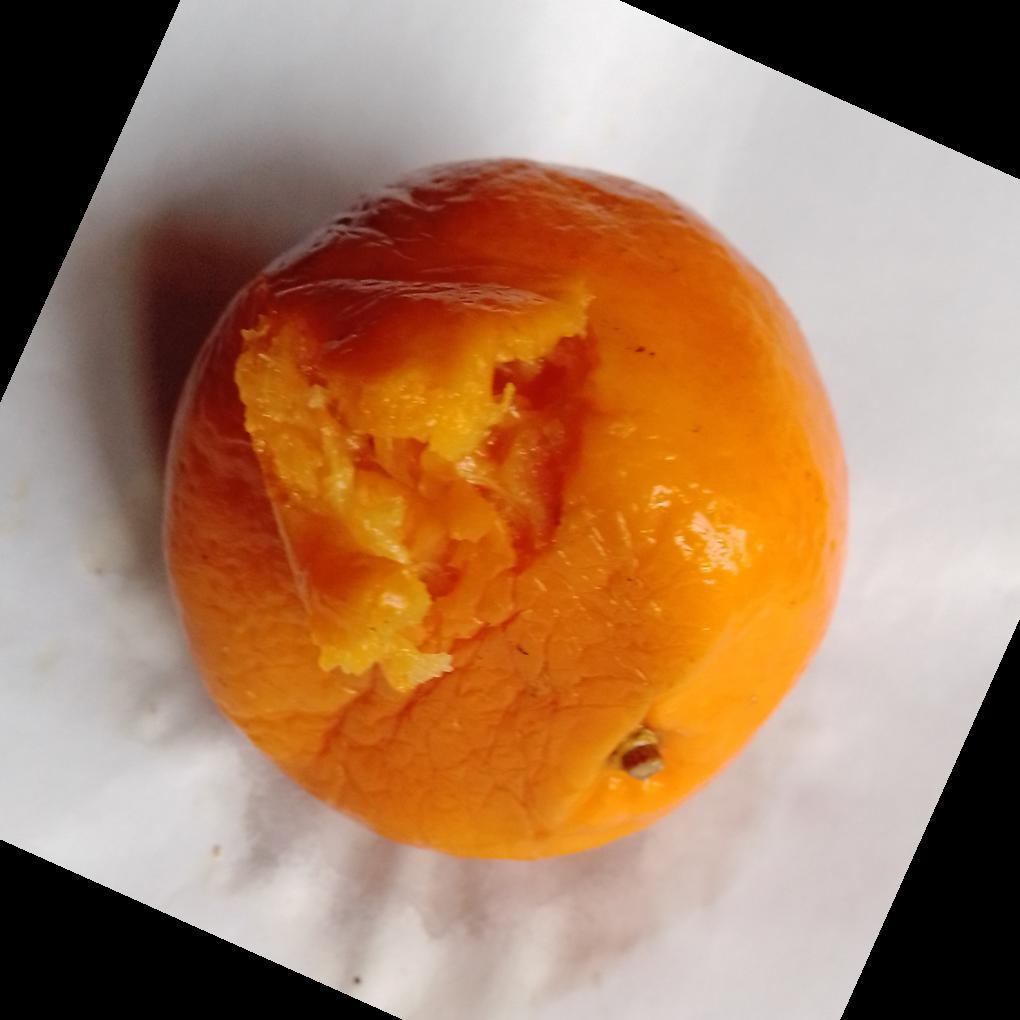FreshOrange: (158, 158, 851, 868)
